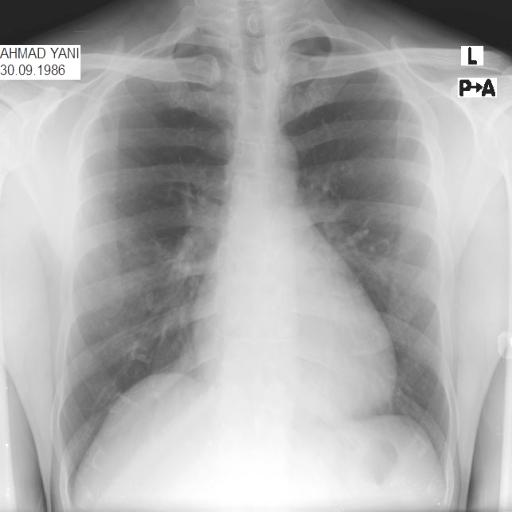kardiomegali: (46, 24, 462, 496)
